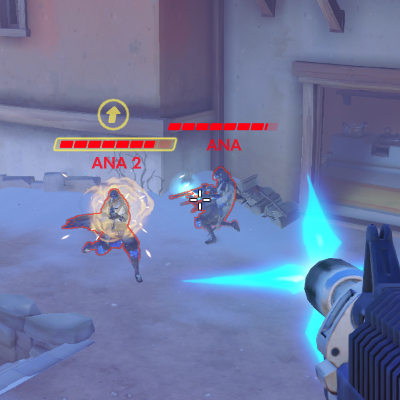hpbar: (59, 139, 172, 149), (167, 122, 279, 131)
